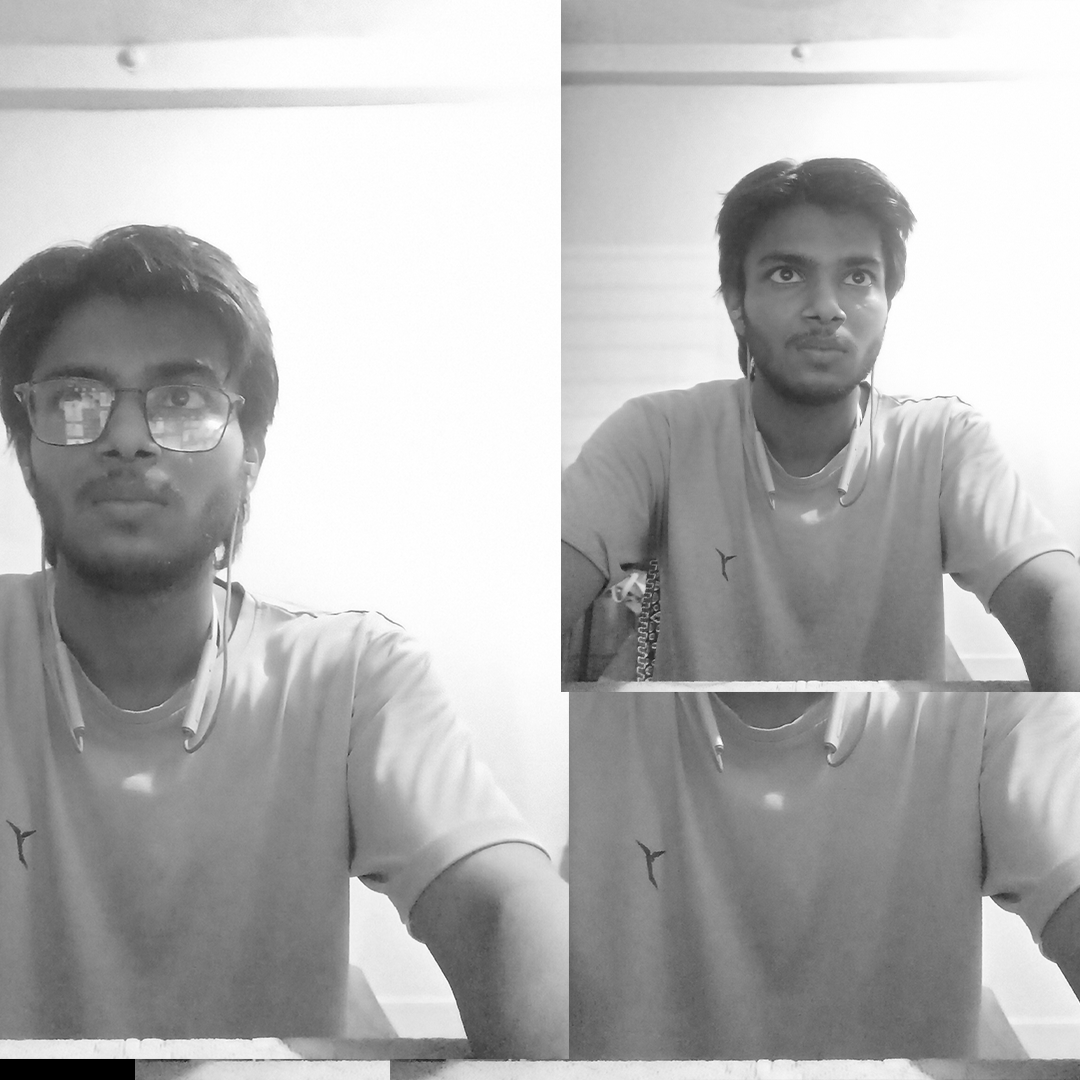Focused: (29, 194, 357, 673), (642, 123, 943, 459)
